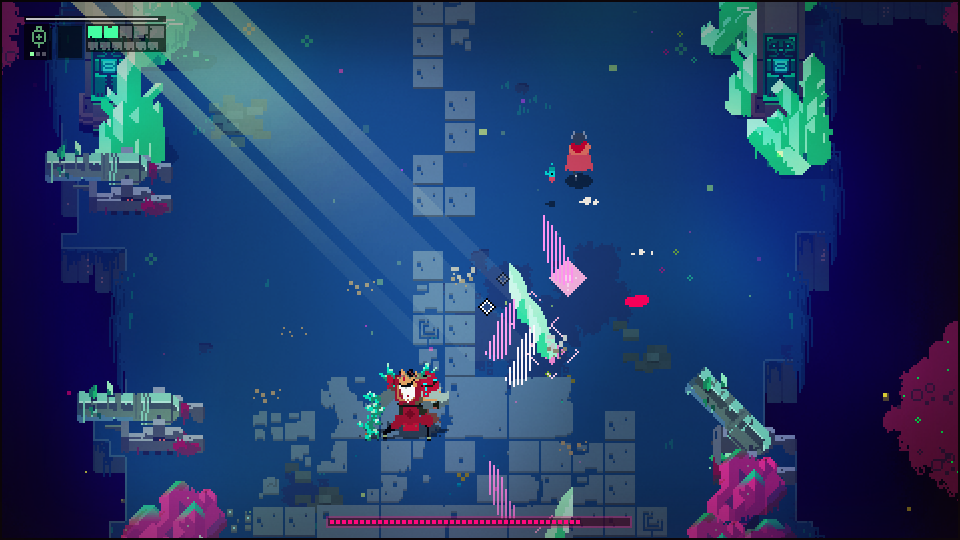hanged_crys: (504, 327, 542, 396), (537, 215, 573, 281), (484, 457, 517, 524), (530, 298, 563, 357), (487, 298, 517, 361), (543, 489, 579, 540), (508, 265, 530, 325)
hanged_man: (363, 362, 452, 446)
player: (562, 125, 593, 187)
